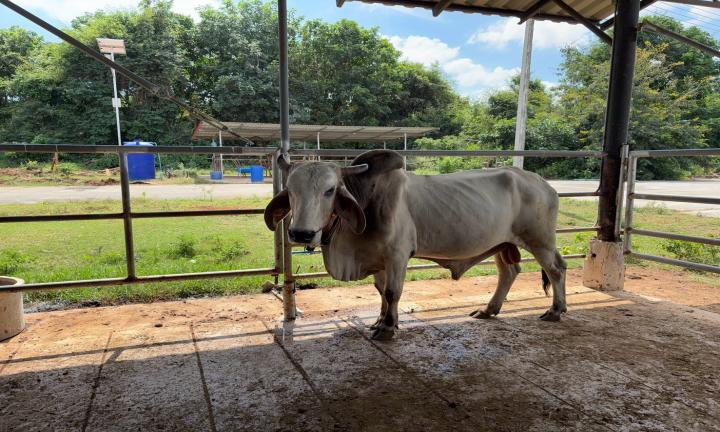Brahman: (264, 149, 566, 339)
